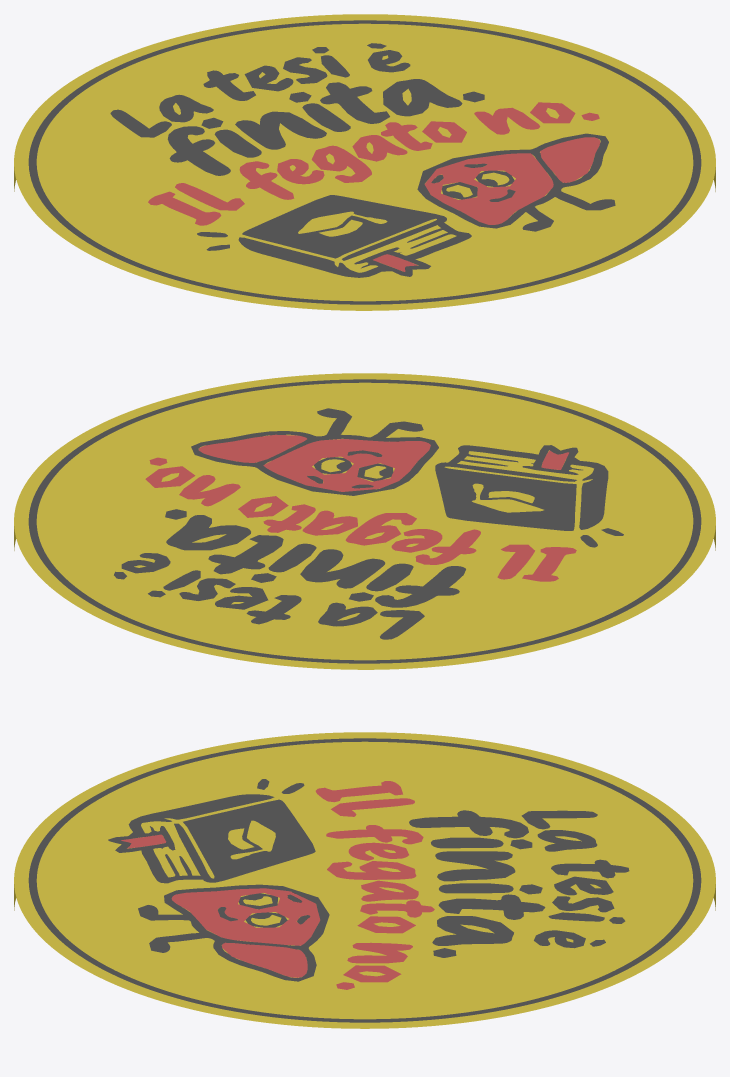
The model's file is sottobicchiere-tesi-finita-fegato.glb.
The picture shows the model from 3 angles, top to bottom: view 1: azimuth 30°, elevation 25°; view 2: azimuth 150°, elevation 25°; view 3: azimuth 270°, elevation 25°; orthographic projection.
Visible parts, largest first — view 1: coaster_base, coaster_ink, coaster_accent; view 2: coaster_base, coaster_ink, coaster_accent; view 3: coaster_base, coaster_ink, coaster_accent.
Part boxes in pixels (bbox=[...]): coaster_base: bbox=[14, 14, 715, 310]; coaster_ink: bbox=[28, 20, 701, 304]; coaster_accent: bbox=[148, 102, 600, 271]; coaster_base: bbox=[14, 373, 715, 669]; coaster_ink: bbox=[28, 379, 701, 663]; coaster_accent: bbox=[145, 434, 576, 581]; coaster_base: bbox=[14, 732, 715, 1028]; coaster_ink: bbox=[28, 738, 701, 1022]; coaster_accent: bbox=[121, 781, 434, 989].
Bounding box in the file's own units: 0.075 × 0.004 × 0.075.
